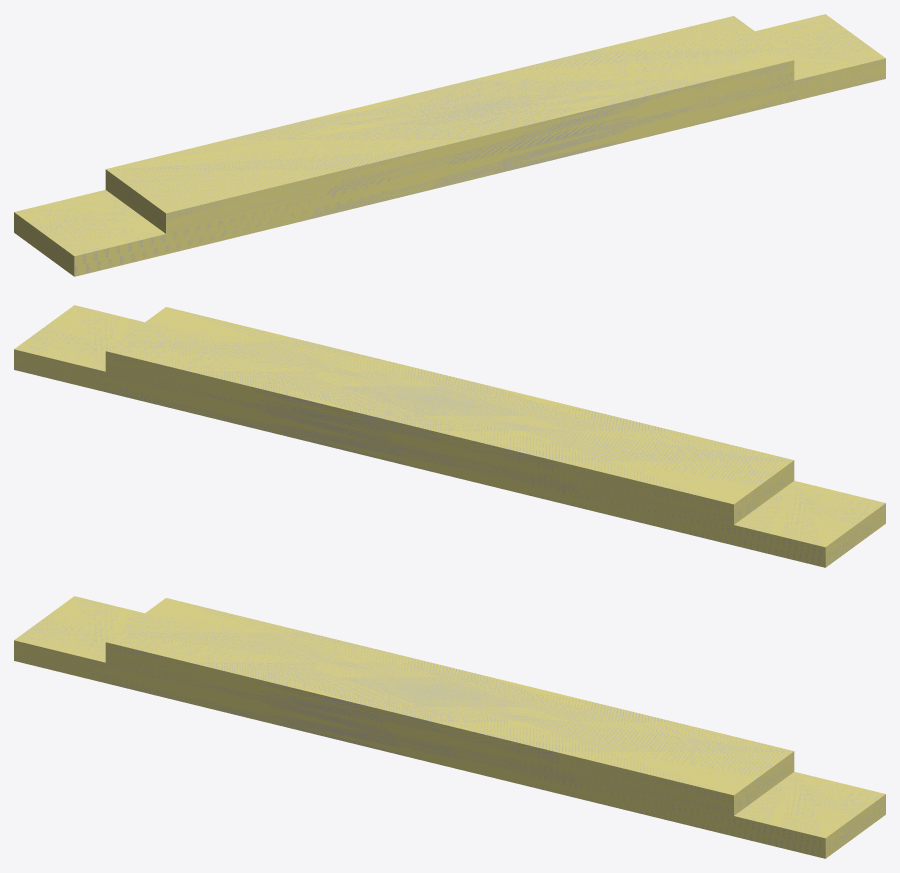
The model's file is original-11.obj.
3 renders of one model, top to bottom at view 1: azimuth 30°, elevation 25°; view 2: azimuth 150°, elevation 25°; view 3: azimuth 330°, elevation 25°, orthographic.
Visible parts, largest first — view 1: drawer_frame-front_back1/drawer_frame-front_back/mesh13/mesh13-g; view 2: drawer_frame-front_back1/drawer_frame-front_back/mesh13/mesh13-g; view 3: drawer_frame-front_back1/drawer_frame-front_back/mesh13/mesh13-g.
Boxes of the visible parts, bbox=[...] form: drawer_frame-front_back1/drawer_frame-front_back/mesh13/mesh13-g: bbox=[14, 14, 885, 276]; drawer_frame-front_back1/drawer_frame-front_back/mesh13/mesh13-g: bbox=[14, 305, 885, 567]; drawer_frame-front_back1/drawer_frame-front_back/mesh13/mesh13-g: bbox=[14, 596, 885, 858].
Bounding box in the file's own units: 0.8132 × 0.0393 × 0.1049.
